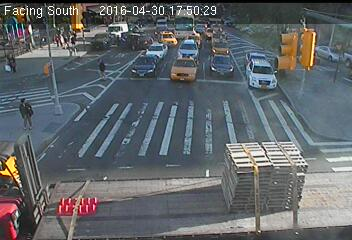neg: (335, 44, 349, 62)
pos: (11, 98, 34, 129), (65, 29, 80, 48), (94, 60, 108, 79), (3, 54, 17, 73), (52, 30, 63, 45)
